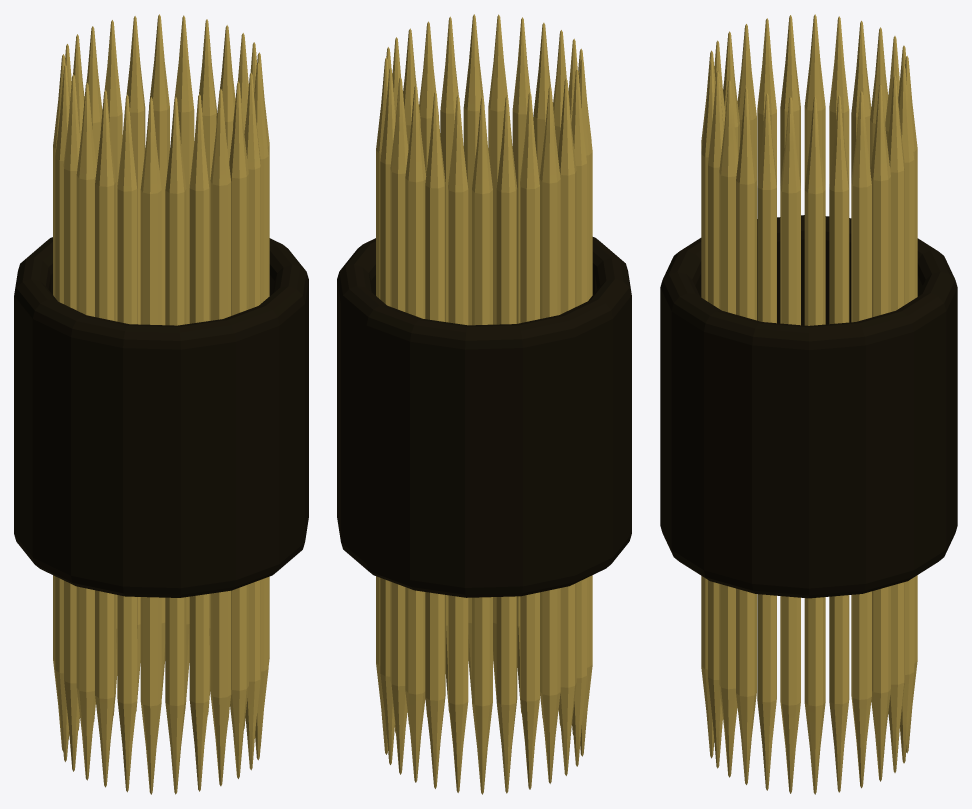
The model's file is Toothpick Bunch.fbx.
3 views of the same model, side by side, from view 1: azimuth 30°, elevation 25°; view 2: azimuth 150°, elevation 25°; view 3: azimuth 270°, elevation 25° (orthographic).
Parts seen in each view (by area): view 1: Tube, Toothpick_Single_15, Toothpick_Single_14, Toothpick_Single_12, Toothpick_Single_17, Toothpick_Single_16, Toothpick_Single_13, Toothpick_Single_18, Toothpick_Single_11, Toothpick_Single_19, Toothpick_Single_10, Toothpick_Single_20 (+12 smaller); view 2: Tube, Toothpick_Single_22, Toothpick_Single_23, Toothpick_Single_20, Toothpick_Single_1, Toothpick_Single_0, Toothpick_Single_24, Toothpick_Single_21, Toothpick_Single_19, Toothpick_Single_2, Toothpick_Single_18, Toothpick_Single_3 (+10 smaller); view 3: Tube, Toothpick_Single_6, Toothpick_Single_7, Toothpick_Single_9, Toothpick_Single_4, Toothpick_Single_5, Toothpick_Single_8, Toothpick_Single_3, Toothpick_Single_10, Toothpick_Single_2, Toothpick_Single_11, Toothpick_Single_1 (+11 smaller).
Part boxes in pixels (x1=…): Tube: x1=14, y1=237, x2=308, y2=597; Toothpick_Single_15: x1=140, y1=97, x2=161, y2=794; Toothpick_Single_14: x1=165, y1=97, x2=186, y2=794; Toothpick_Single_12: x1=210, y1=89, x2=231, y2=786; Toothpick_Single_17: x1=95, y1=90, x2=115, y2=787; Toothpick_Single_16: x1=117, y1=94, x2=137, y2=792; Toothpick_Single_13: x1=189, y1=94, x2=209, y2=791; Toothpick_Single_18: x1=76, y1=83, x2=96, y2=780; Toothpick_Single_11: x1=229, y1=81, x2=248, y2=778; Toothpick_Single_19: x1=63, y1=74, x2=80, y2=771; Toothpick_Single_10: x1=244, y1=72, x2=260, y2=770; Toothpick_Single_20: x1=55, y1=64, x2=69, y2=761; Tube: x1=337, y1=237, x2=631, y2=597; Toothpick_Single_22: x1=496, y1=96, x2=517, y2=793; Toothpick_Single_23: x1=472, y1=97, x2=492, y2=794; Toothpick_Single_20: x1=539, y1=86, x2=560, y2=783; Toothpick_Single_1: x1=405, y1=85, x2=426, y2=782; Toothpick_Single_0: x1=425, y1=91, x2=445, y2=788; Toothpick_Single_24: x1=448, y1=95, x2=468, y2=792; Toothpick_Single_21: x1=520, y1=92, x2=539, y2=789; Toothpick_Single_19: x1=558, y1=78, x2=576, y2=775; Toothpick_Single_2: x1=390, y1=77, x2=408, y2=774; Toothpick_Single_18: x1=571, y1=69, x2=586, y2=766; Toothpick_Single_3: x1=380, y1=67, x2=395, y2=764; Tube: x1=660, y1=215, x2=957, y2=598; Toothpick_Single_6: x1=804, y1=97, x2=825, y2=794; Toothpick_Single_7: x1=780, y1=96, x2=800, y2=793; Toothpick_Single_9: x1=736, y1=87, x2=756, y2=784; Toothpick_Single_4: x1=851, y1=91, x2=871, y2=788; Toothpick_Single_5: x1=829, y1=95, x2=849, y2=792; Toothpick_Single_8: x1=757, y1=93, x2=776, y2=790; Toothpick_Single_3: x1=870, y1=84, x2=890, y2=781; Toothpick_Single_10: x1=719, y1=80, x2=738, y2=777; Toothpick_Single_2: x1=887, y1=76, x2=904, y2=772; Toothpick_Single_11: x1=708, y1=71, x2=723, y2=768; Toothpick_Single_1: x1=899, y1=66, x2=914, y2=763.
Bounding box in the file's own units: 20 × 51.82 × 20.
